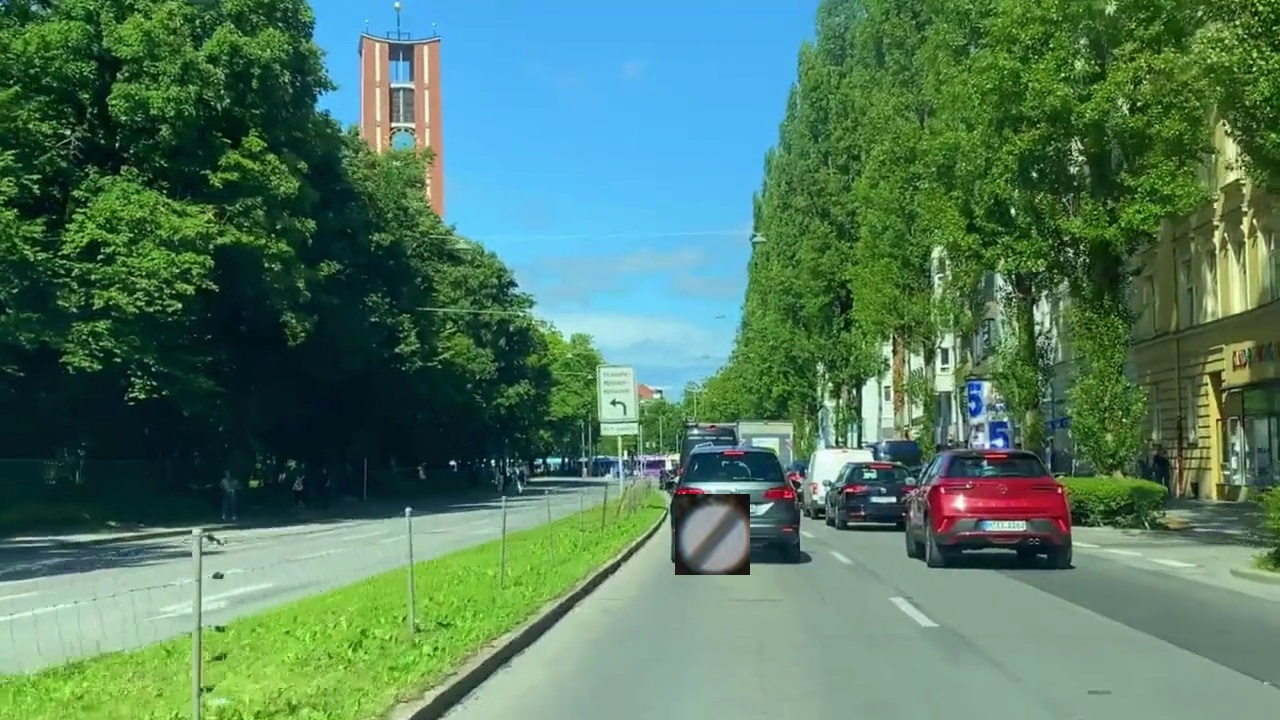End limits: (675, 494, 750, 575)
